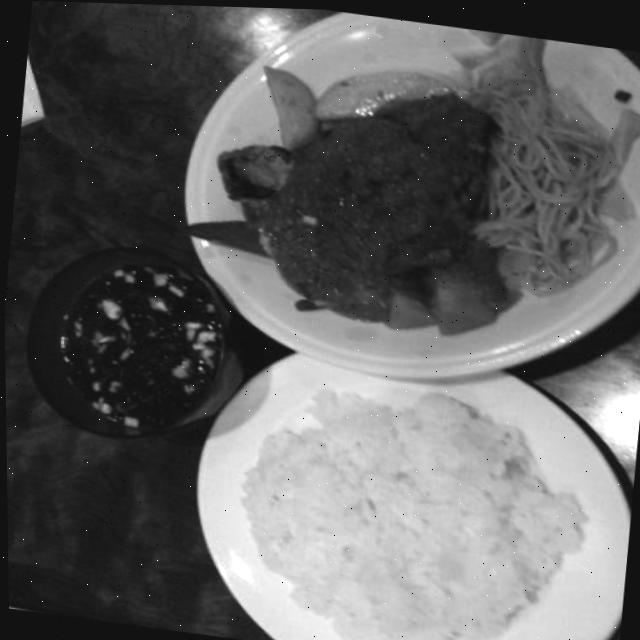米饭主食: (154, 311, 640, 640)
